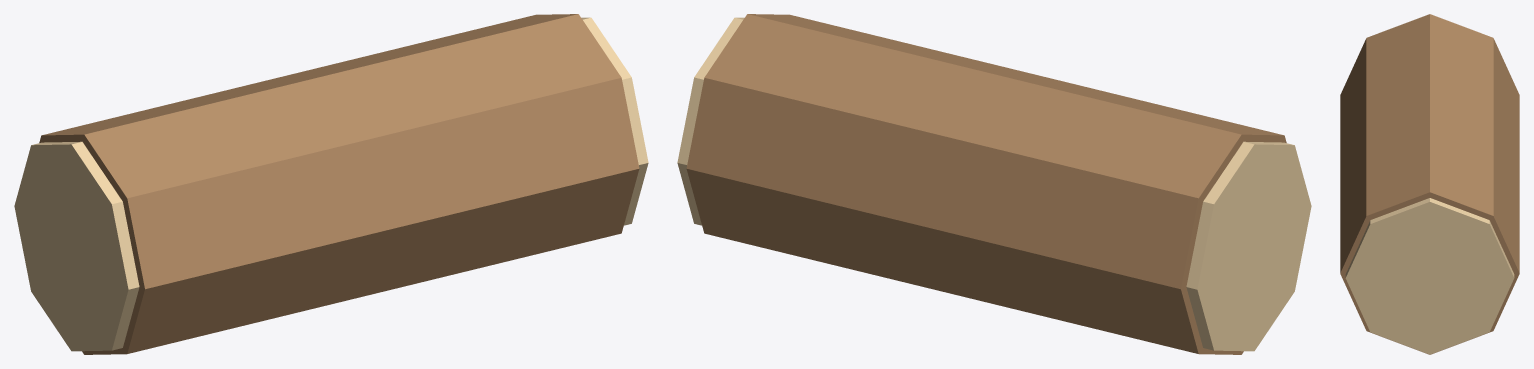
Rendered from Log_Drop.glb.
3 views of the same model, side by side, from view 1: azimuth 30°, elevation 25°; view 2: azimuth 150°, elevation 25°; view 3: azimuth 270°, elevation 25° (orthographic). The views are drawn at different scales.
Visible parts, largest first — view 1: SmallLog, SmallCutEnd_Left, SmallCutEnd_Right; view 2: SmallLog, SmallCutEnd_Left, SmallCutEnd_Right; view 3: SmallLog, SmallCutEnd_Right.
Part boxes in pixels (<box>): SmallLog: <box>39,14,639,354</box>; SmallCutEnd_Left: <box>14,141,139,351</box>; SmallCutEnd_Right: <box>581,17,648,225</box>; SmallLog: <box>686,14,1286,354</box>; SmallCutEnd_Left: <box>1186,141,1311,351</box>; SmallCutEnd_Right: <box>677,17,744,225</box>; SmallLog: <box>1340,14,1519,354</box>; SmallCutEnd_Right: <box>1345,198,1514,354</box>.
Size of the model in its own units: 0.568 by 0.23 by 0.23.
